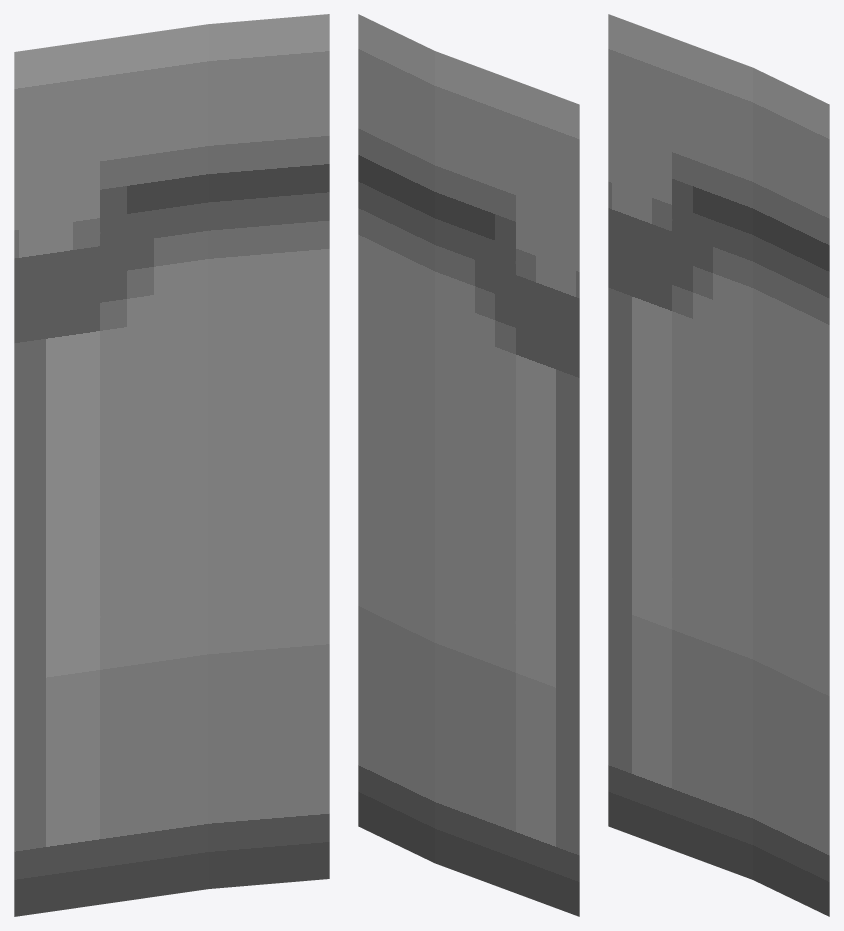
3 views of the same model, side by side, from view 1: azimuth 30°, elevation 25°; view 2: azimuth 150°, elevation 25°; view 3: azimuth 330°, elevation 25° (orthographic). The views are drawn at different scales.
Size of the model in its own units: 1 by 3 by 0.2507.
1 material, 1 textured.
